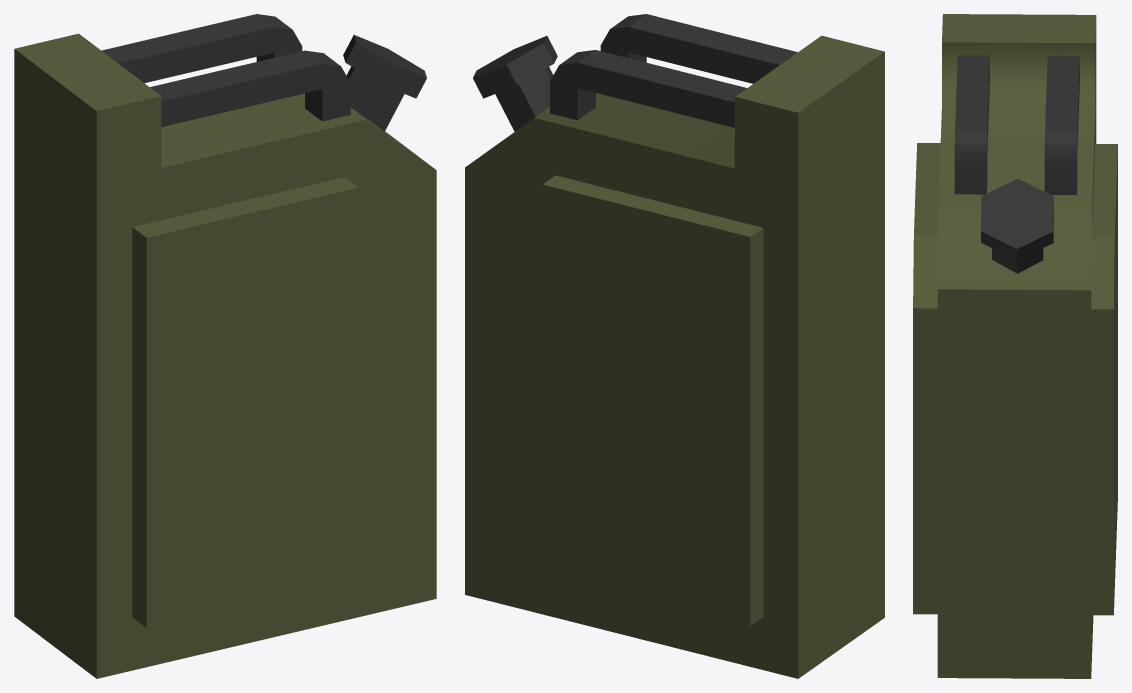
File: Canista.fbx
3 renders of one model, left to right at view 1: azimuth 30°, elevation 25°; view 2: azimuth 150°, elevation 25°; view 3: azimuth 270°, elevation 25°, orthographic. The views are drawn at different scales.
Visible parts, largest first — view 1: pCube49, pCube51, pCube50, pCylinder21; view 2: pCube49, pCube50, pCube51, pCylinder21; view 3: pCube49, pCylinder21, pCube51, pCube50.
Boxes of the visible parts, x1,y1,x2,y2 form: pCube49: (14, 33, 436, 678); pCube51: (150, 50, 350, 127); pCube50: (101, 14, 302, 83); pCylinder21: (343, 35, 426, 131); pCube49: (465, 35, 884, 678); pCube50: (550, 50, 746, 127); pCube51: (600, 14, 797, 83); pCylinder21: (473, 36, 557, 131); pCube49: (913, 14, 1117, 678); pCylinder21: (981, 179, 1053, 273); pCube51: (954, 55, 989, 194); pCube50: (1044, 55, 1079, 194).
Size of the model in its own units: 2.03 by 2.99 by 1.08.
